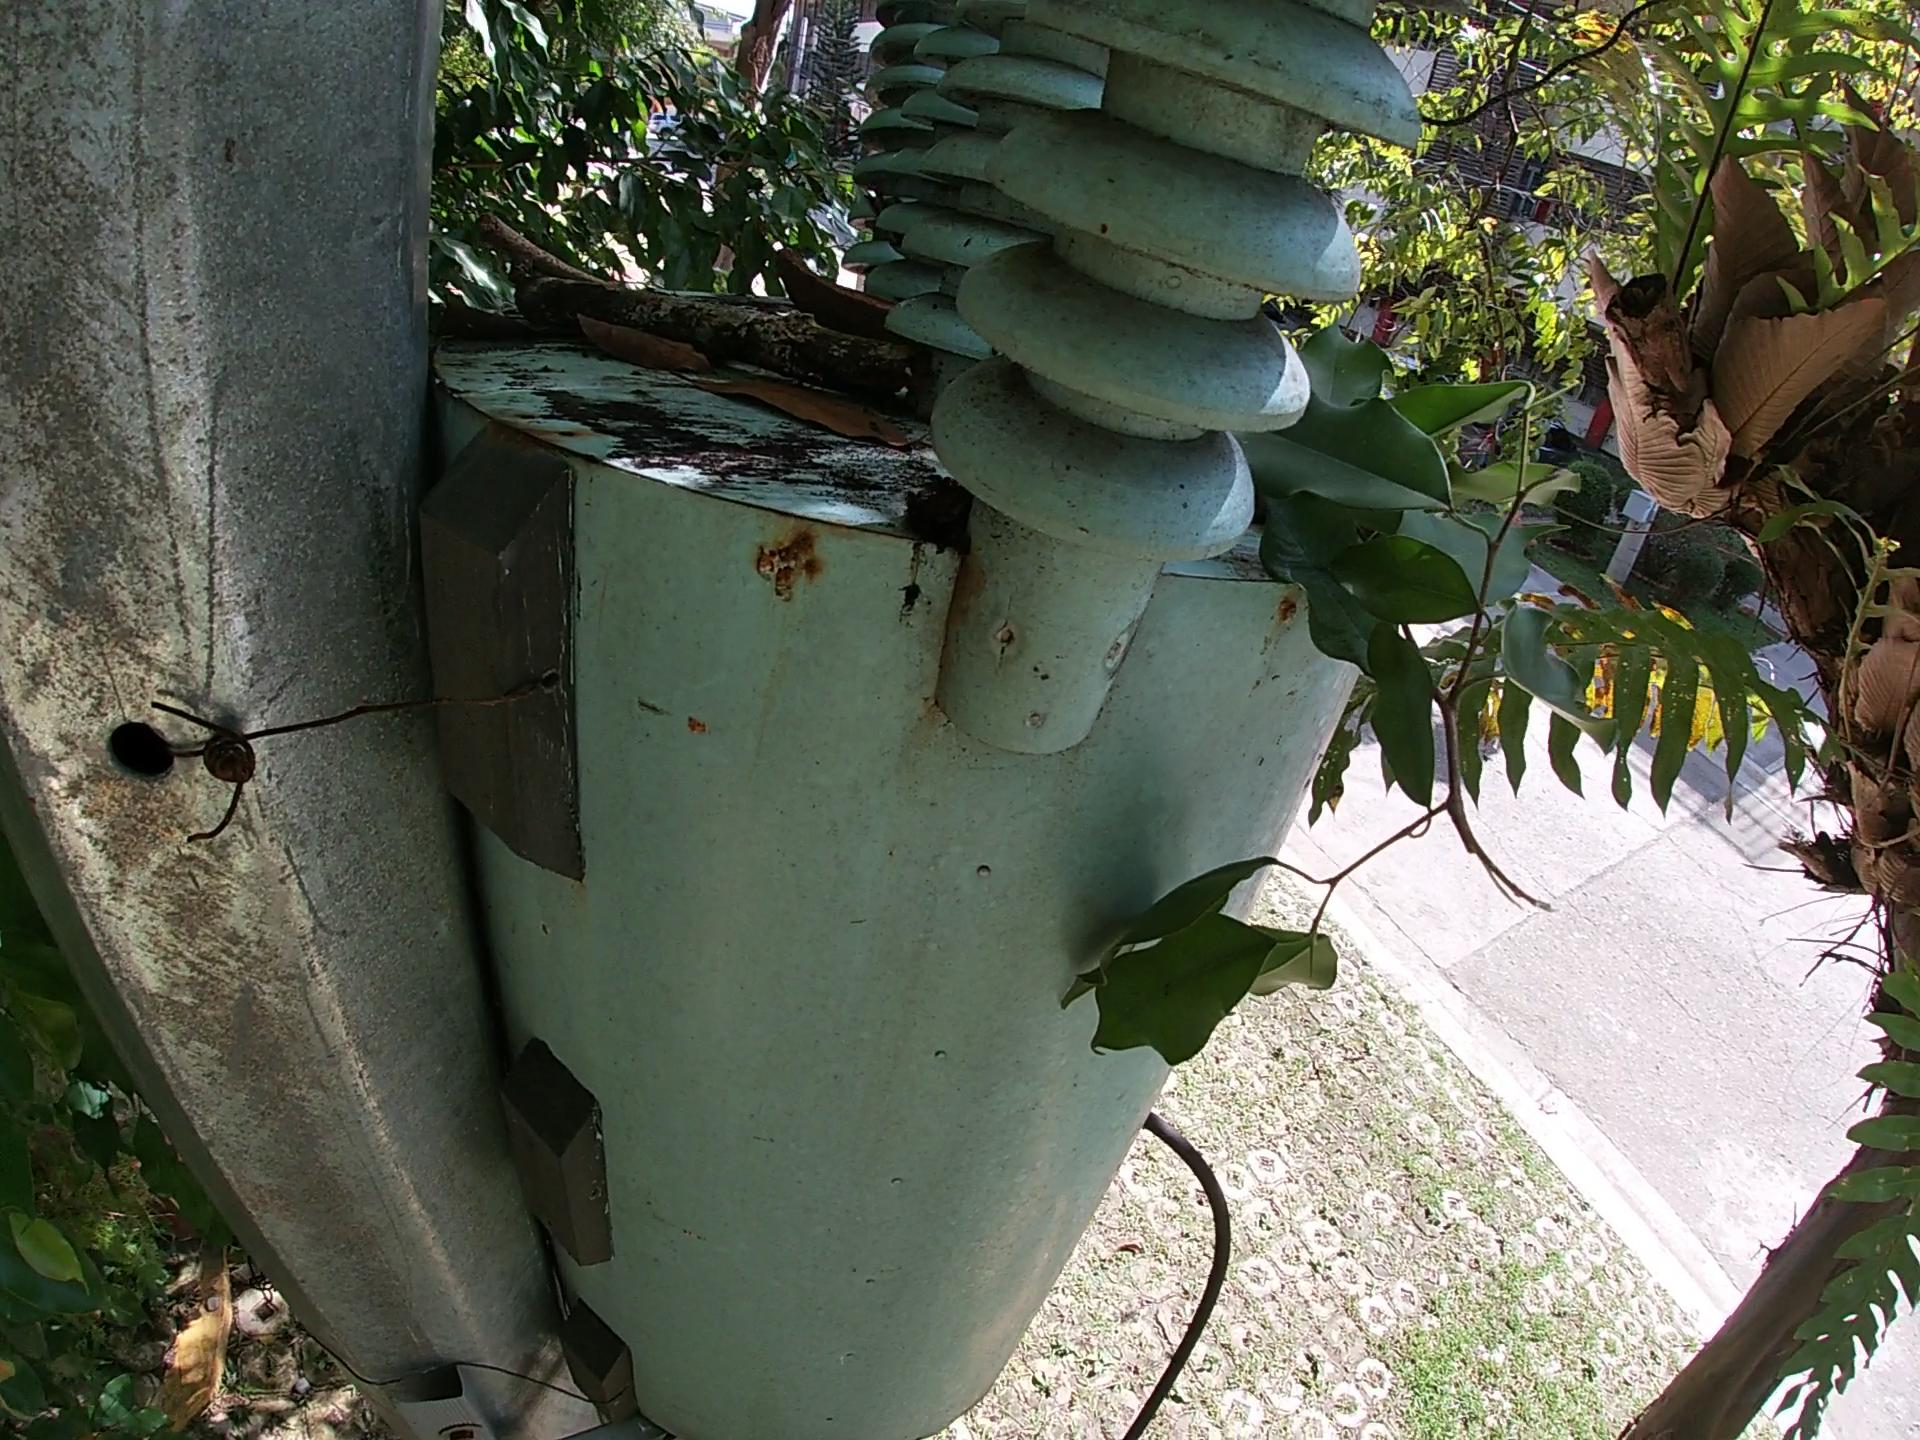branch with leaves: (1054, 321, 1586, 1068)
leaf: (659, 357, 918, 457), (574, 306, 714, 374), (435, 290, 537, 346)
mahogany fruit: (763, 242, 898, 343)
tree branch: (508, 271, 921, 404), (472, 206, 605, 284)
